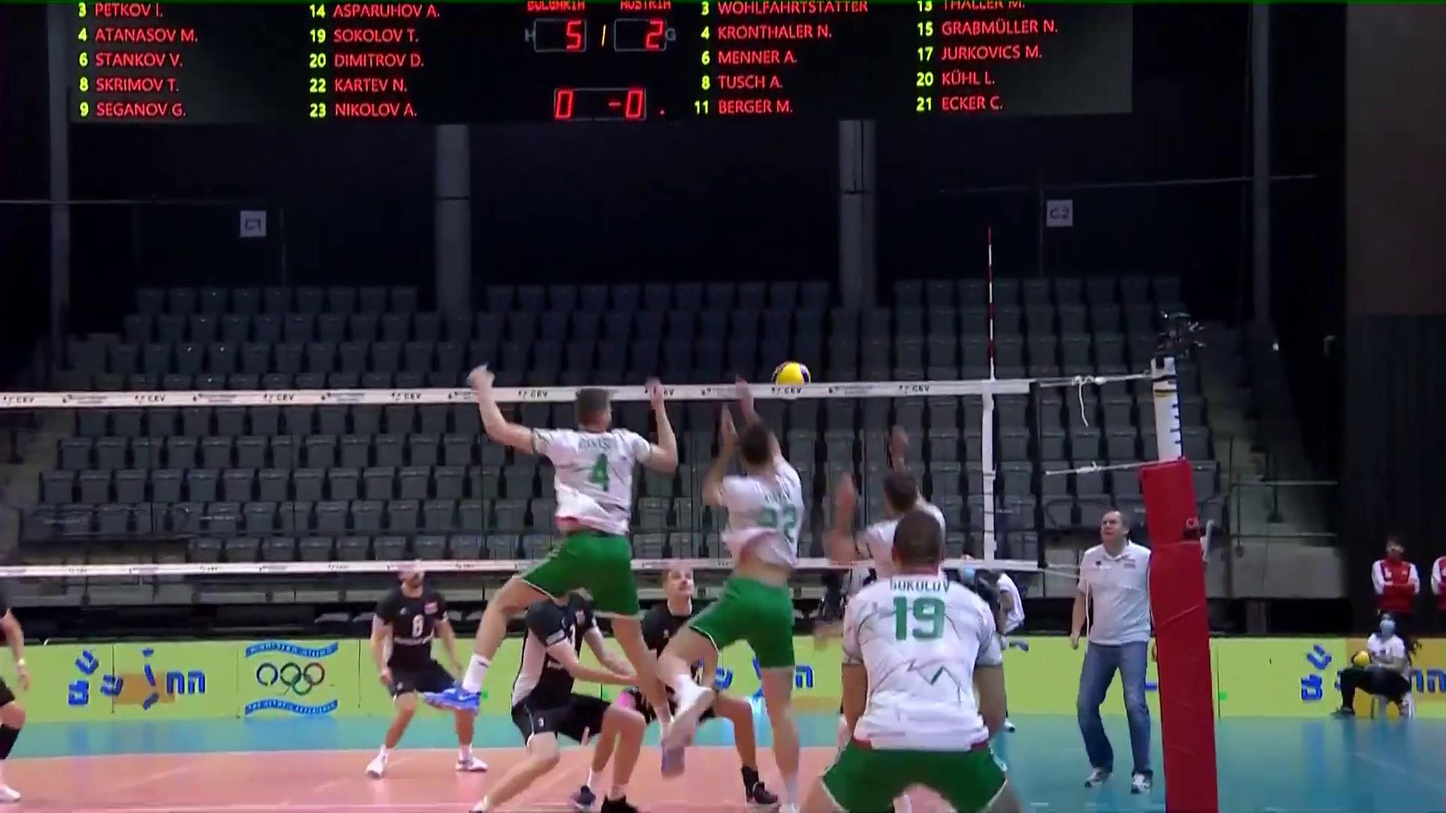ball: (771, 360, 814, 386)
